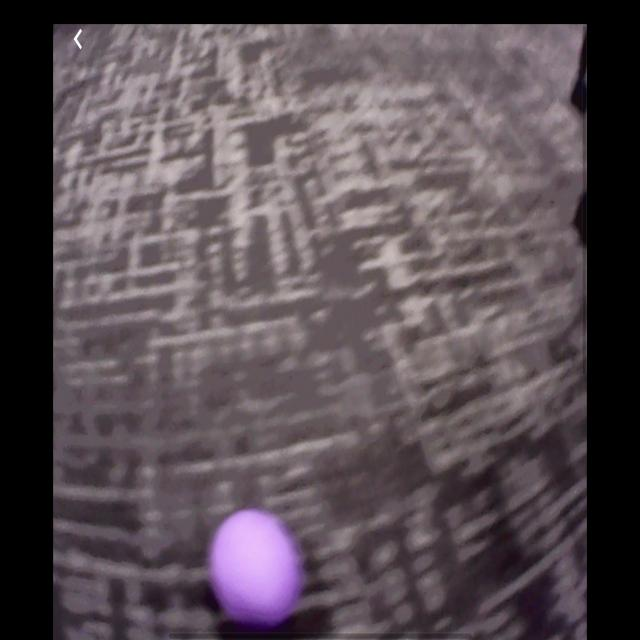ball: (211, 514, 304, 621)
